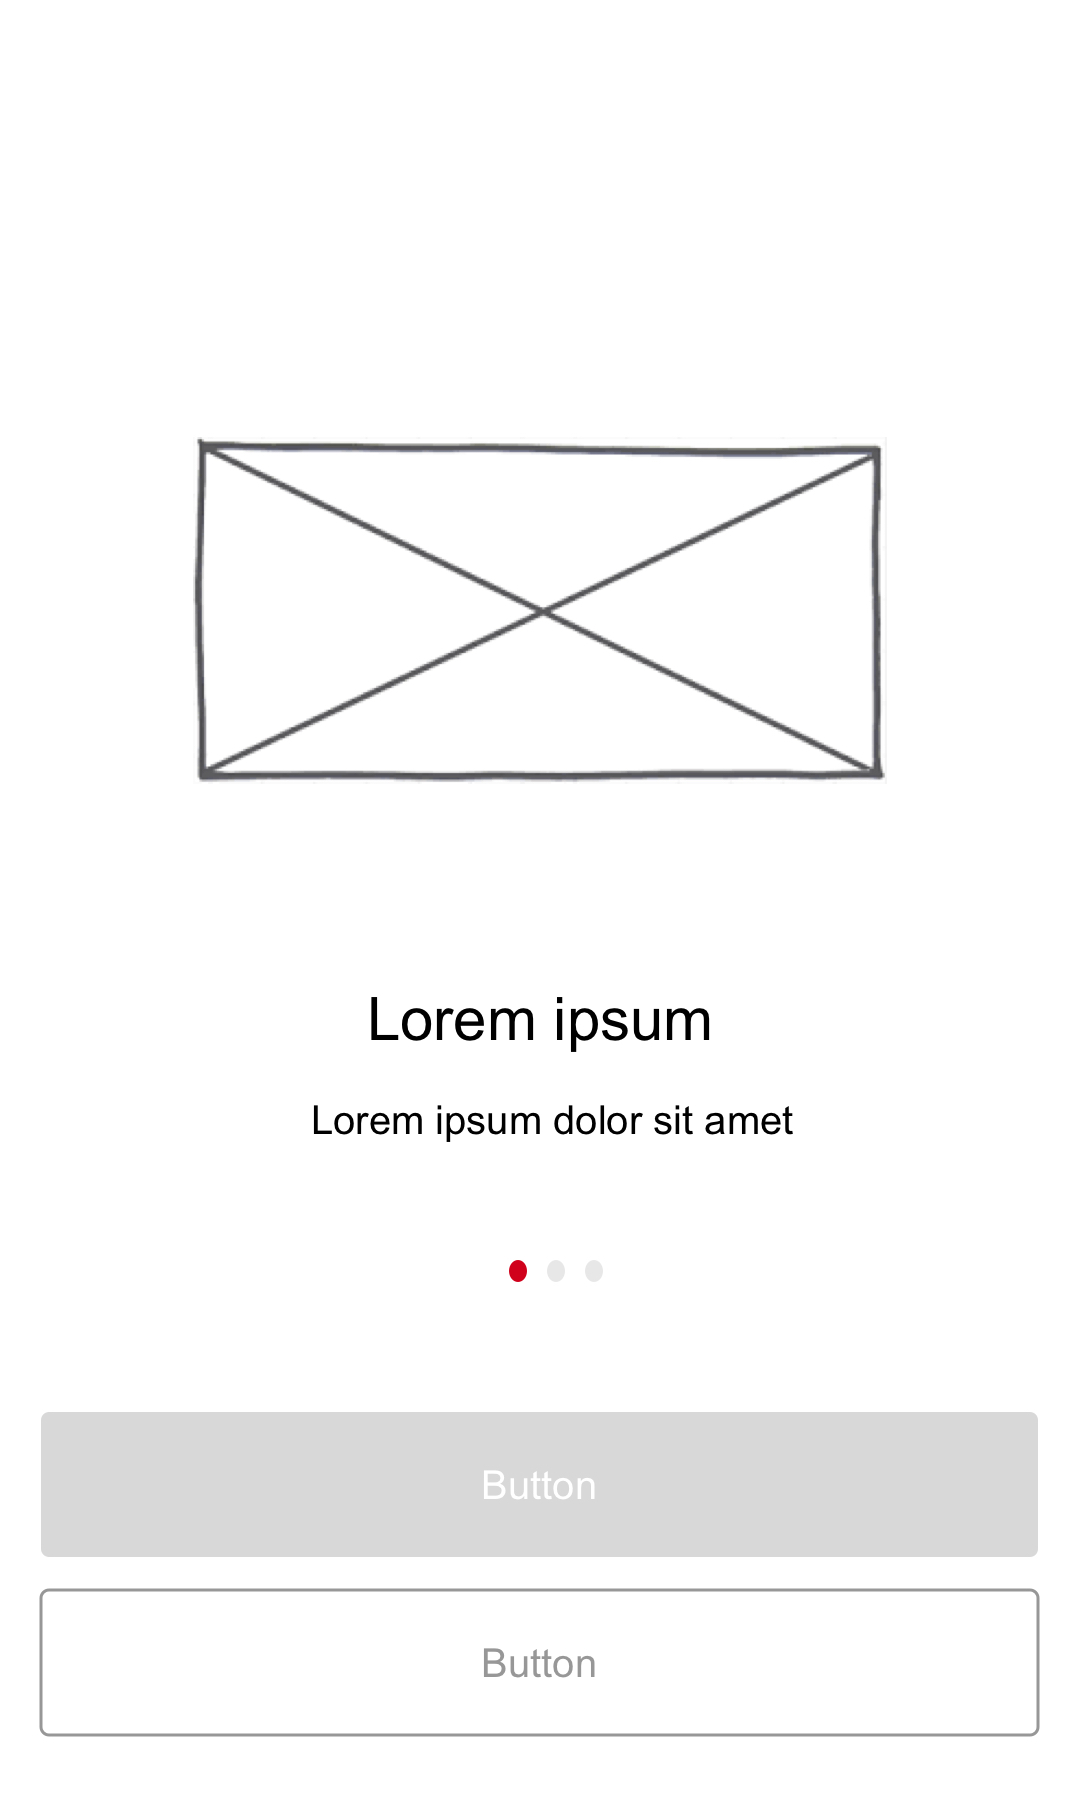Image: (193, 436, 887, 782)
PageIndicator: (509, 1258, 603, 1283)
Text: (372, 996, 710, 1053), (313, 1105, 796, 1143)
TextButton: (38, 1588, 1042, 1738), (41, 1411, 1039, 1558)
